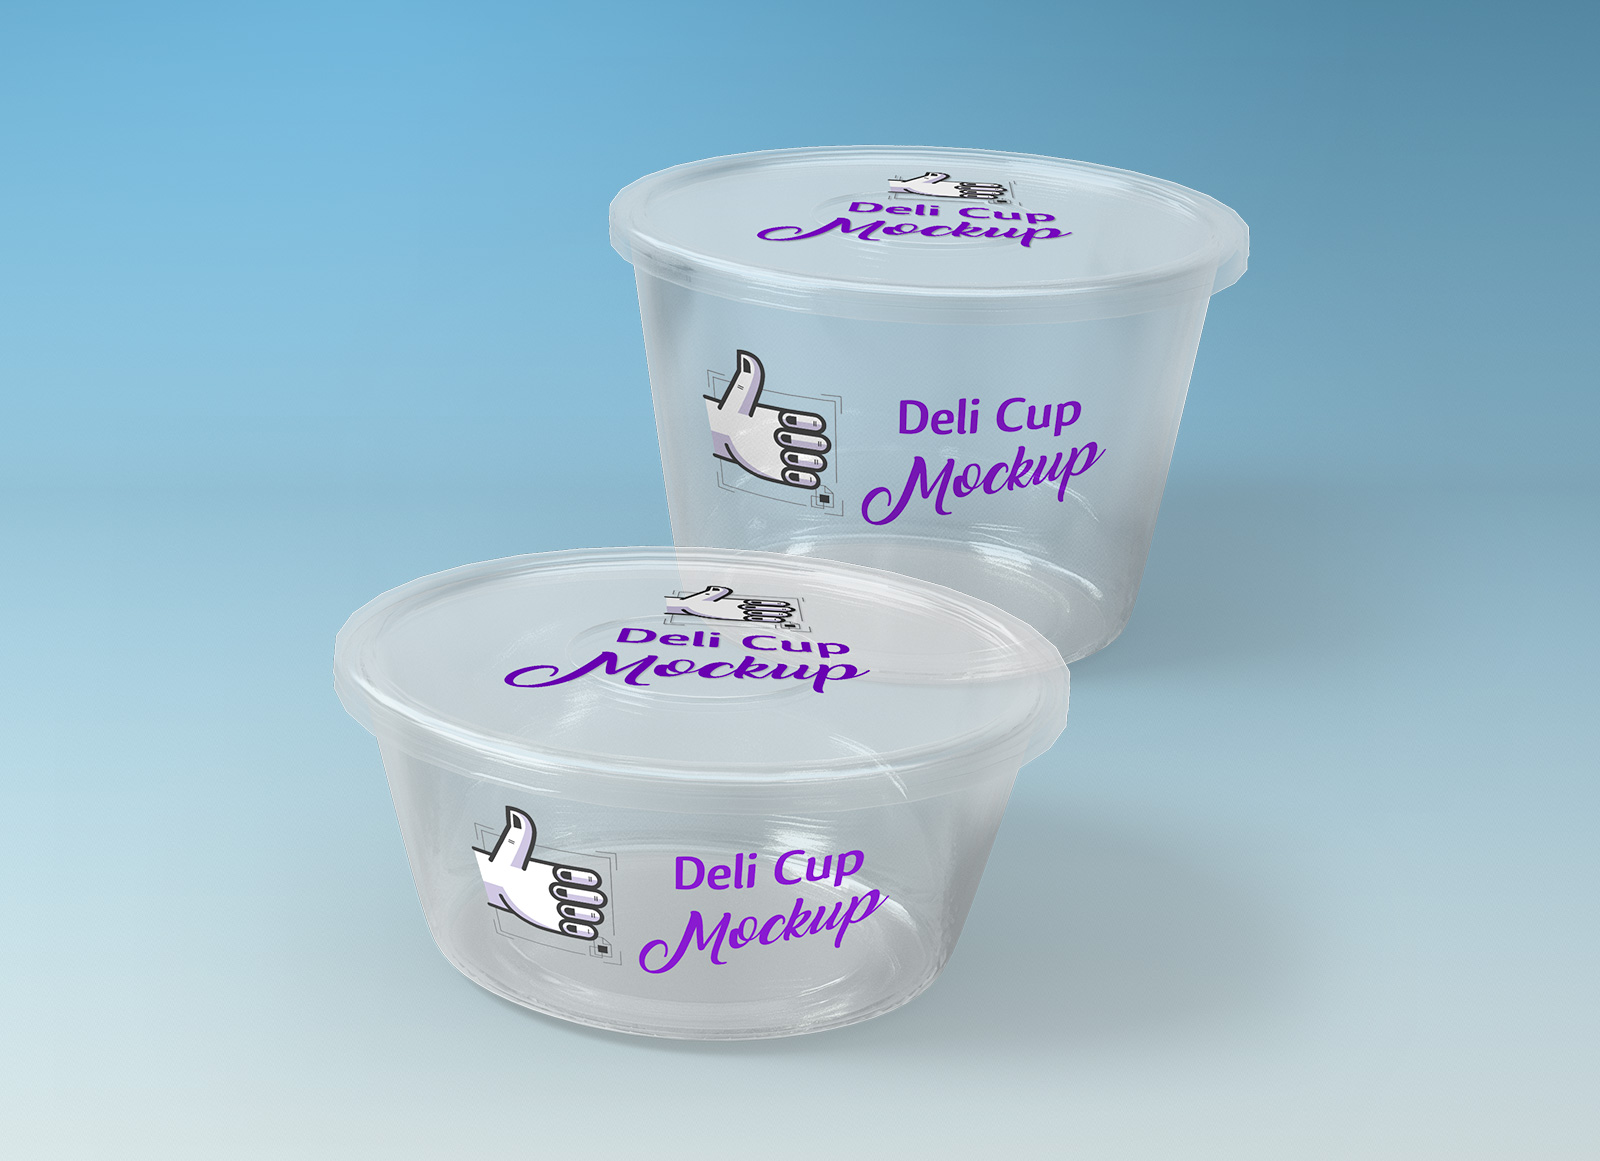PlasticBox: (323, 538, 1082, 1048)
